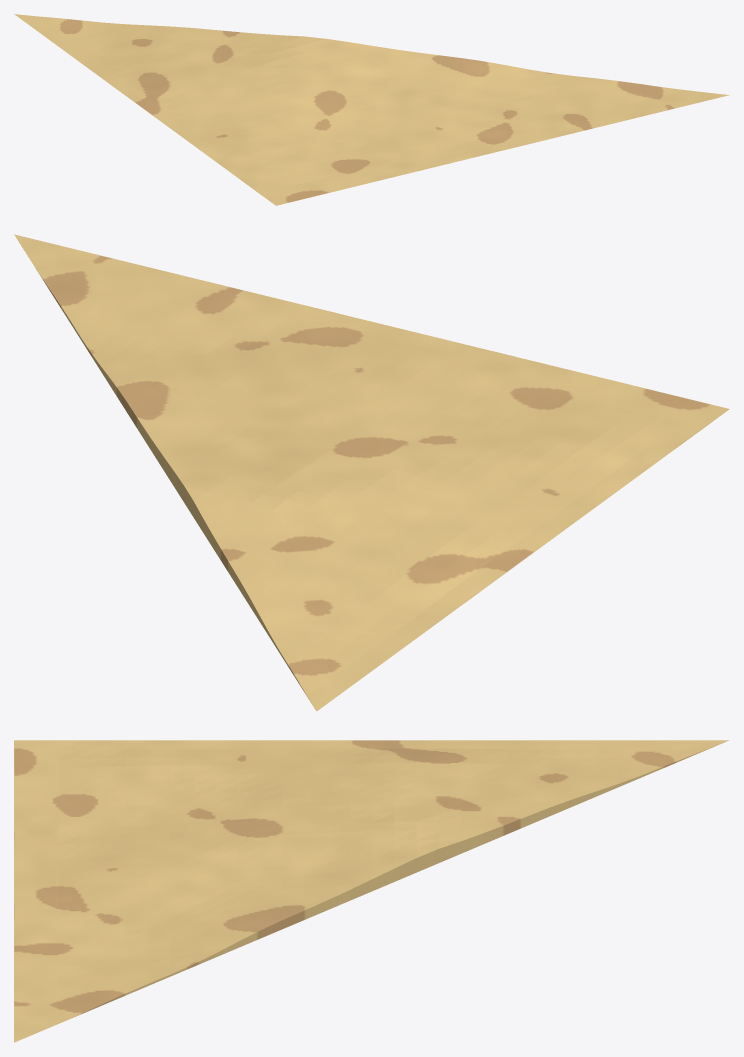
Rendered from Desert_Flat_02_NW.obj.
3 views of the same model, one above another, from view 1: azimuth 30°, elevation 25°; view 2: azimuth 150°, elevation 25°; view 3: azimuth 270°, elevation 25° (orthographic). The views are drawn at different scales.
Bounding box in the file's own units: 10 × 0.2242 × 10.
1 material, 1 textured.
